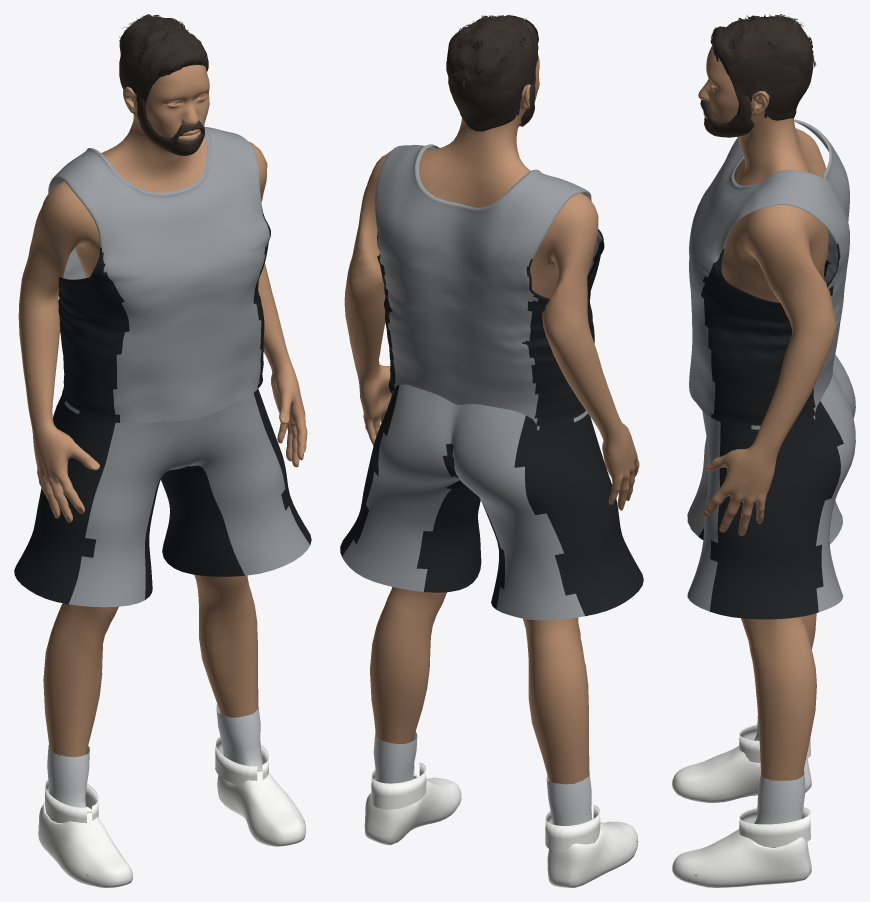
The model's file is mskba-male-player-v1-Dg5Enc-A.glb.
3 views of the same model, side by side, from view 1: azimuth 30°, elevation 25°; view 2: azimuth 150°, elevation 25°; view 3: azimuth 270°, elevation 25° (orthographic). The views are drawn at different scales.
Visible parts, largest first — view 1: MSKBA_Uniform_Jersey_Mesh, Body, MSKBA_Uniform_Shorts_Mesh, MSKBA_Shoes_Primary_Mesh, MSKBA_Hair_Male_Fade_Mesh, MSKBA_Shoes_Accent_Mesh, MSKBA_Beard_Short_Mesh; view 2: MSKBA_Uniform_Shorts_Mesh, Body, MSKBA_Uniform_Jersey_Mesh, MSKBA_Shoes_Primary_Mesh, MSKBA_Hair_Male_Fade_Mesh, MSKBA_Shoes_Accent_Mesh; view 3: Body, MSKBA_Uniform_Shorts_Mesh, MSKBA_Uniform_Jersey_Mesh, MSKBA_Shoes_Primary_Mesh, MSKBA_Hair_Male_Fade_Mesh, MSKBA_Shoes_Accent_Mesh, MSKBA_Beard_Short_Mesh.
Part boxes in pixels (x1,y1,x2,y2): MSKBA_Uniform_Jersey_Mesh: (48,126,270,423); Body: (18,65,307,876); MSKBA_Uniform_Shorts_Mesh: (14,389,311,607); MSKBA_Shoes_Primary_Mesh: (38,704,305,887); MSKBA_Hair_Male_Fade_Mesh: (119,14,208,114); MSKBA_Shoes_Accent_Mesh: (45,736,268,822); MSKBA_Beard_Short_Mesh: (136,98,205,155); MSKBA_Uniform_Shorts_Mesh: (340,384,643,620); Body: (344,55,639,842); MSKBA_Uniform_Jersey_Mesh: (375,144,604,430); MSKBA_Shoes_Primary_Mesh: (364,732,638,887); MSKBA_Hair_Male_Fade_Mesh: (446,14,538,131); MSKBA_Shoes_Accent_Mesh: (371,762,600,851); Body: (695,45,836,875); MSKBA_Uniform_Shorts_Mesh: (687,354,855,619); MSKBA_Uniform_Jersey_Mesh: (689,119,849,429); MSKBA_Shoes_Primary_Mesh: (672,716,811,887); MSKBA_Hair_Male_Fade_Mesh: (710,14,816,120); MSKBA_Shoes_Accent_Mesh: (739,724,810,847); MSKBA_Beard_Short_Mesh: (700,96,754,137).
Bounding box in the file's own units: 0.6145 × 1.76 × 0.3586.
